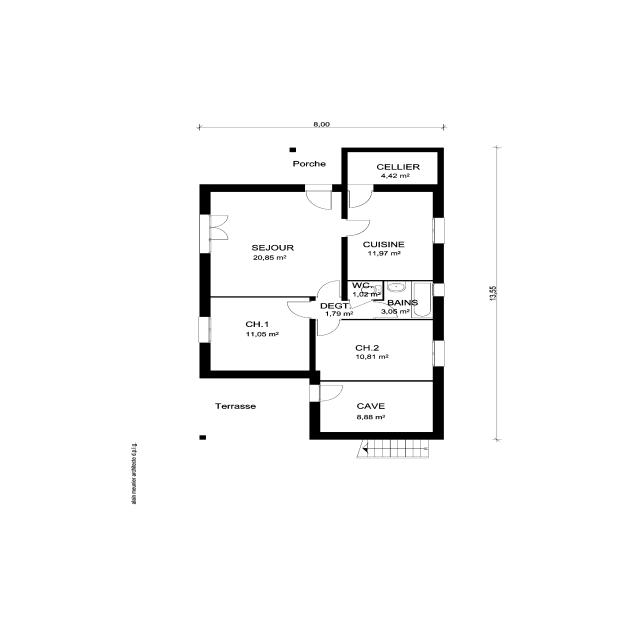door: (204, 205, 229, 250), (306, 183, 332, 210), (286, 296, 312, 322), (320, 381, 346, 407), (348, 183, 373, 210), (318, 279, 340, 305), (316, 316, 339, 339), (348, 218, 371, 240)
window: (430, 207, 444, 253), (199, 307, 212, 354), (432, 331, 444, 378), (433, 276, 445, 305)
zone: (210, 192, 340, 296), (210, 296, 310, 371), (348, 191, 432, 280), (317, 320, 434, 380), (321, 382, 433, 434), (346, 280, 432, 319), (348, 152, 437, 184)
